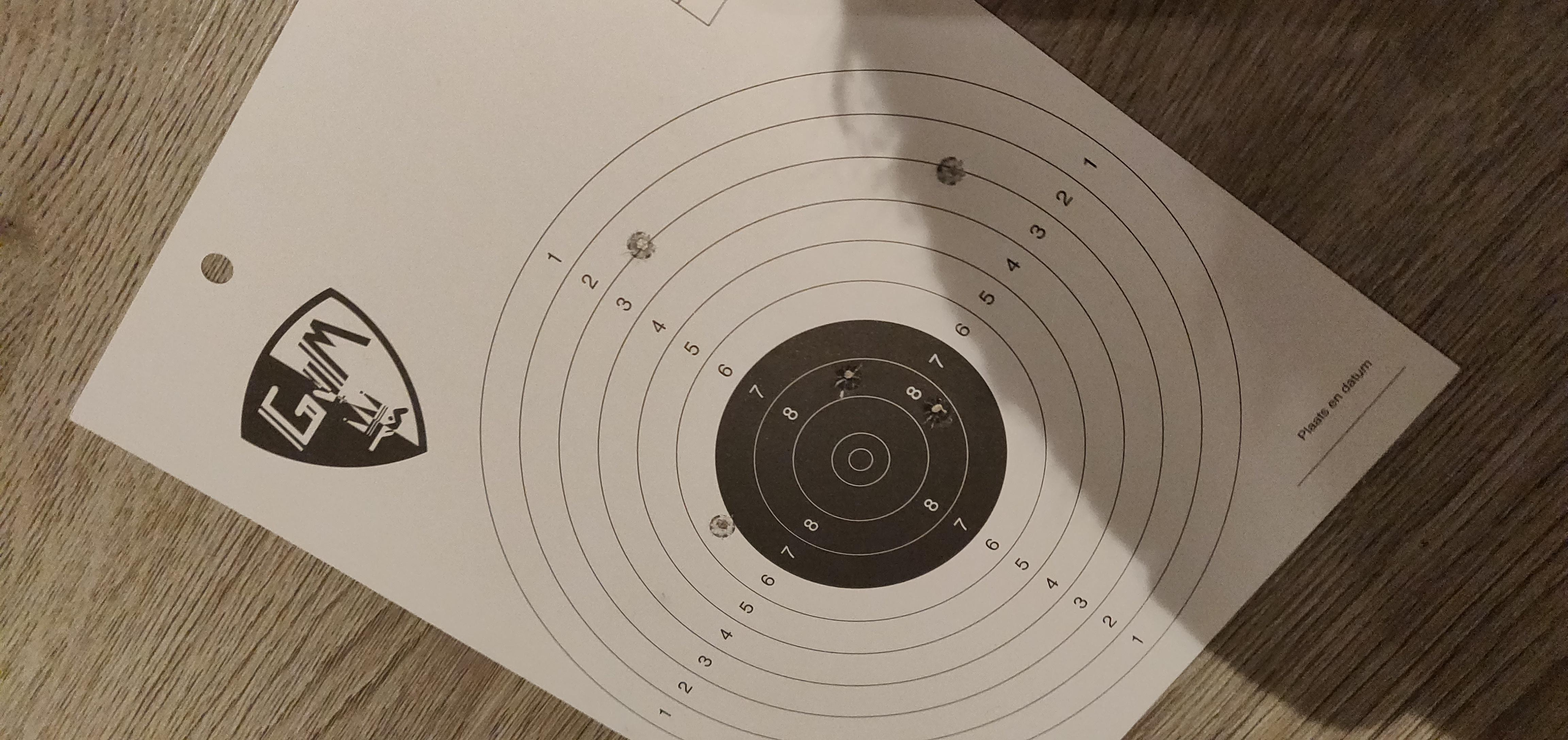hole: (933, 150, 968, 191), (920, 394, 955, 430), (833, 361, 863, 398), (625, 230, 659, 261), (709, 514, 735, 539)
